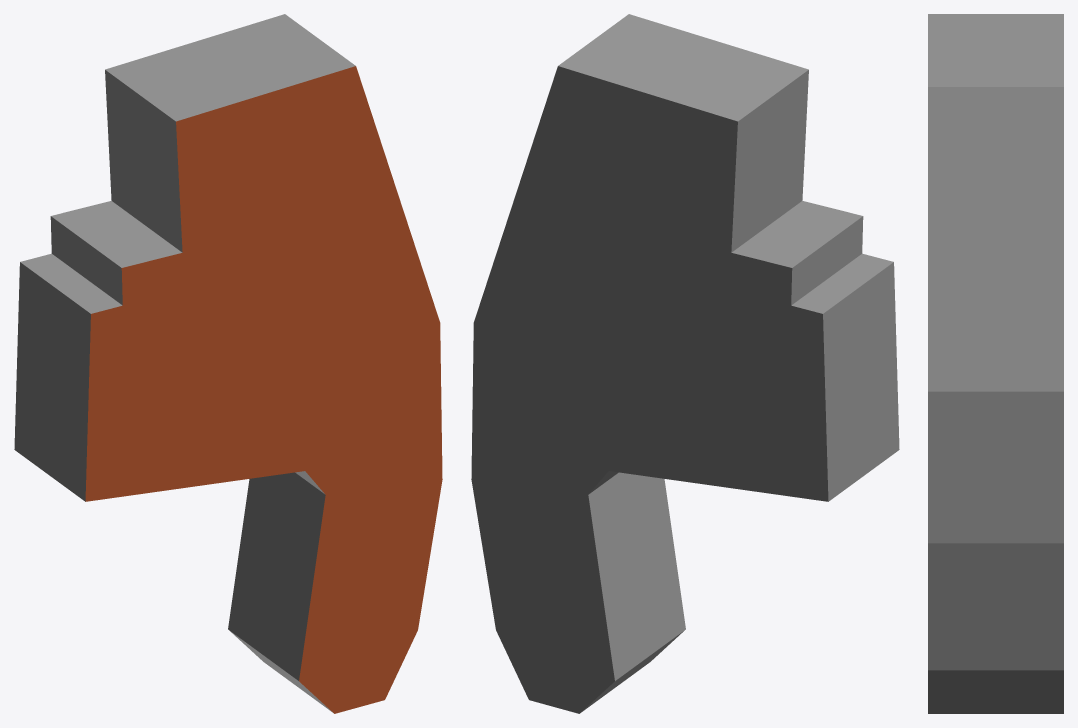
Rendered from construction_3300_assumed_A_Casa_h6m.obj.
3 views of the same model, side by side, from view 1: azimuth 30°, elevation 25°; view 2: azimuth 150°, elevation 25°; view 3: azimuth 270°, elevation 25° (orthographic). The views are drawn at different scales.
Visible parts, largest first — view 1: construction_3300_assumed_A_Casa; view 2: construction_3300_assumed_A_Casa; view 3: construction_3300_assumed_A_Casa.
Boxes of the visible parts, x1=… form: construction_3300_assumed_A_Casa: x1=14, y1=14, x2=442, y2=713; construction_3300_assumed_A_Casa: x1=471, y1=14, x2=899, y2=713; construction_3300_assumed_A_Casa: x1=928, y1=14, x2=1063, y2=713.
Bounding box in the file's own units: 17.41 × 29.95 × 6.
